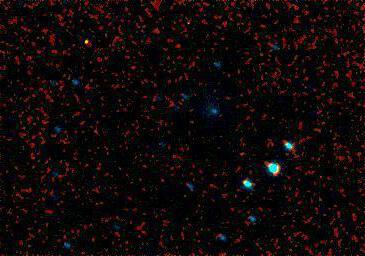star: (77, 21, 107, 51)
